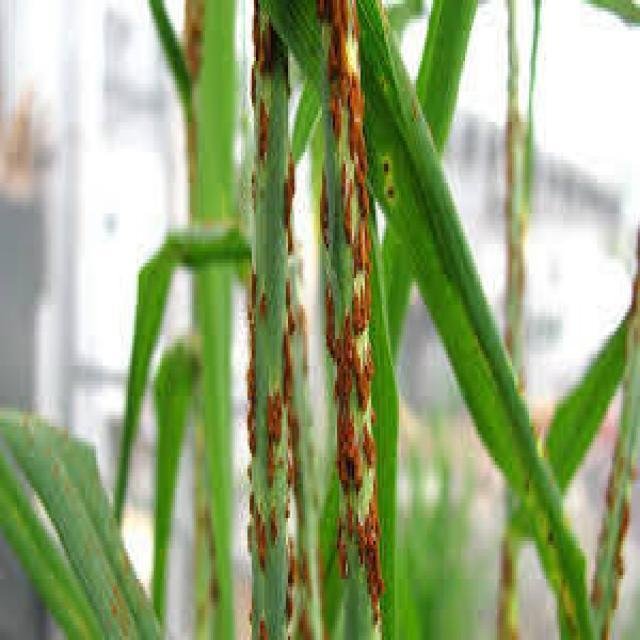Stem Rust: (167, 0, 408, 637)
